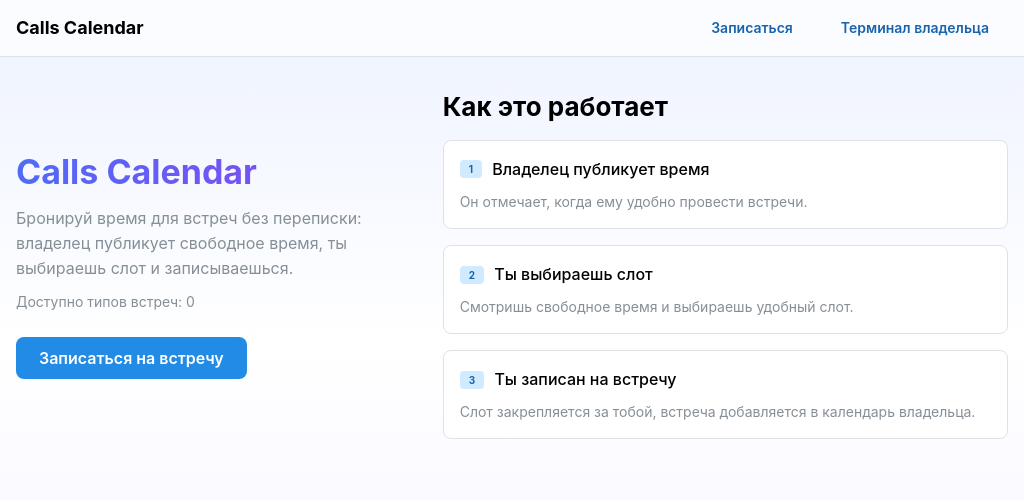
Test: Навигация › кнопка «Записаться на встречу» с главной ведёт на страницу записи
What coordinates should you click on to do the following:
click the link "Записаться на встречу"
I would click on:
 (131, 358)
Its box is [16, 337, 247, 379].
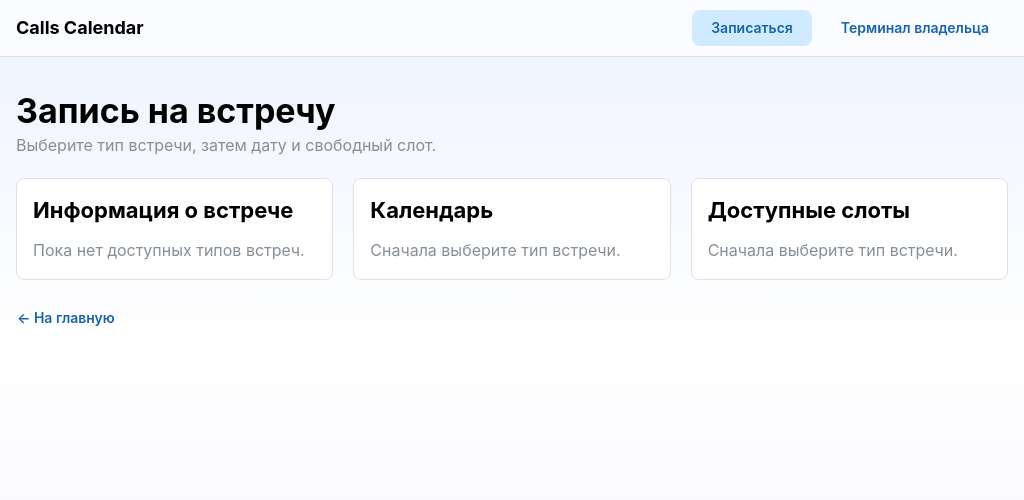
Check: the heading "Запись на встречу" is shown, box [16, 90, 336, 131]
